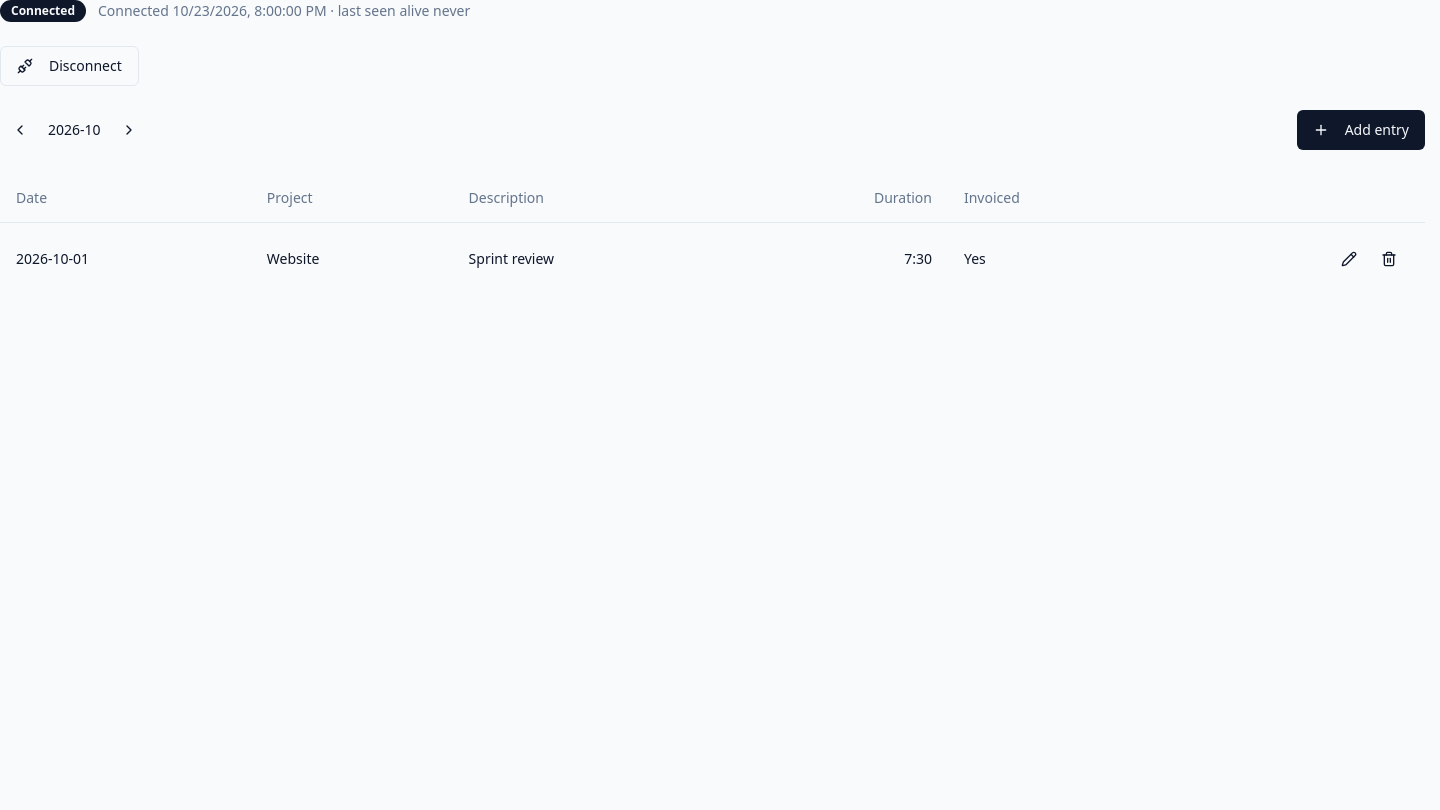
it: MyZenPanel › when connected › deletes an entry only after confirming
This screenshot has width=1440, height=810.
Later steps or results of the test are not shown.
Click the button named "Delete entry of 2026-10-01".
click(1389, 258)  # box [1369,238,1409,278]
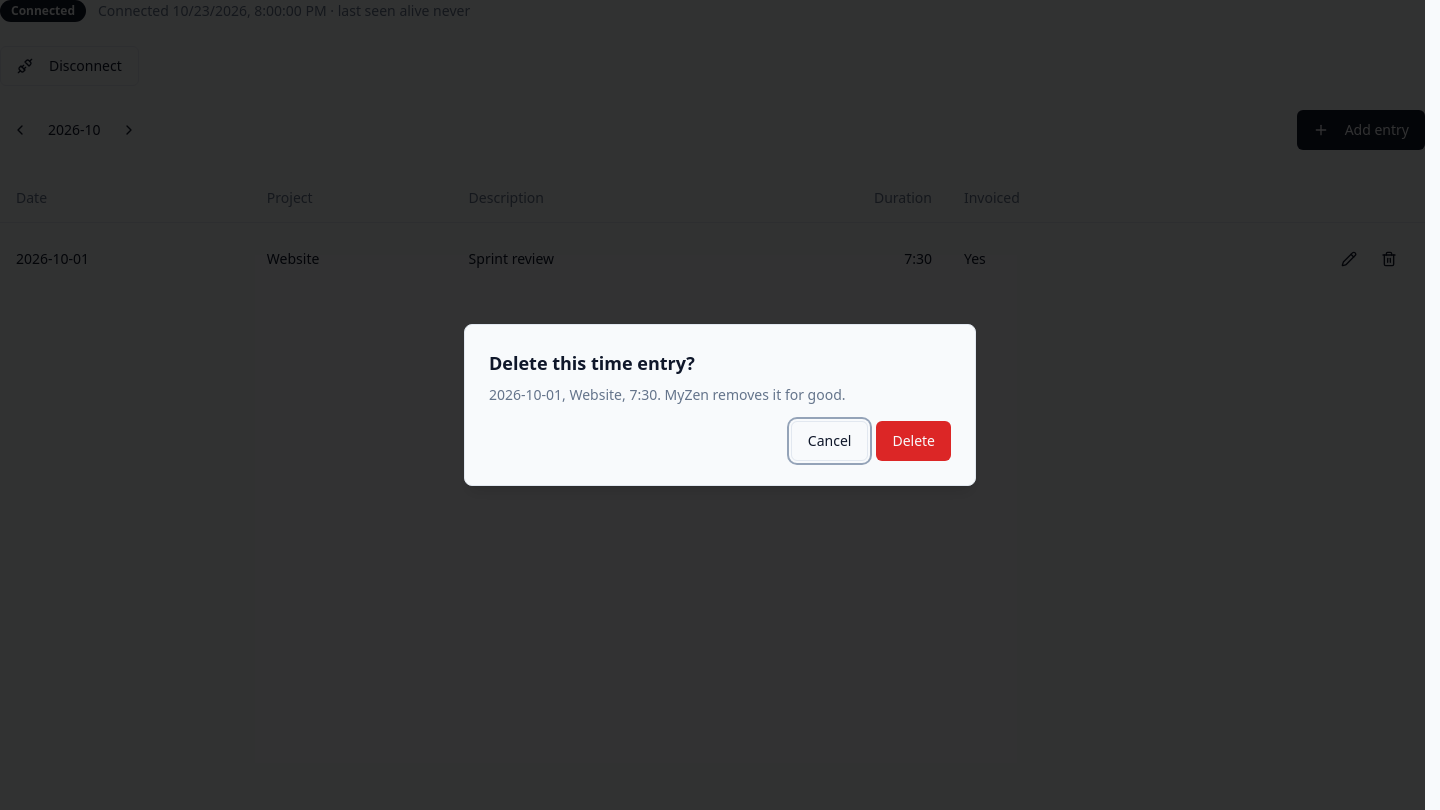
Check: the heading "Delete this time entry?" is shown, box [489,351,695,375]
